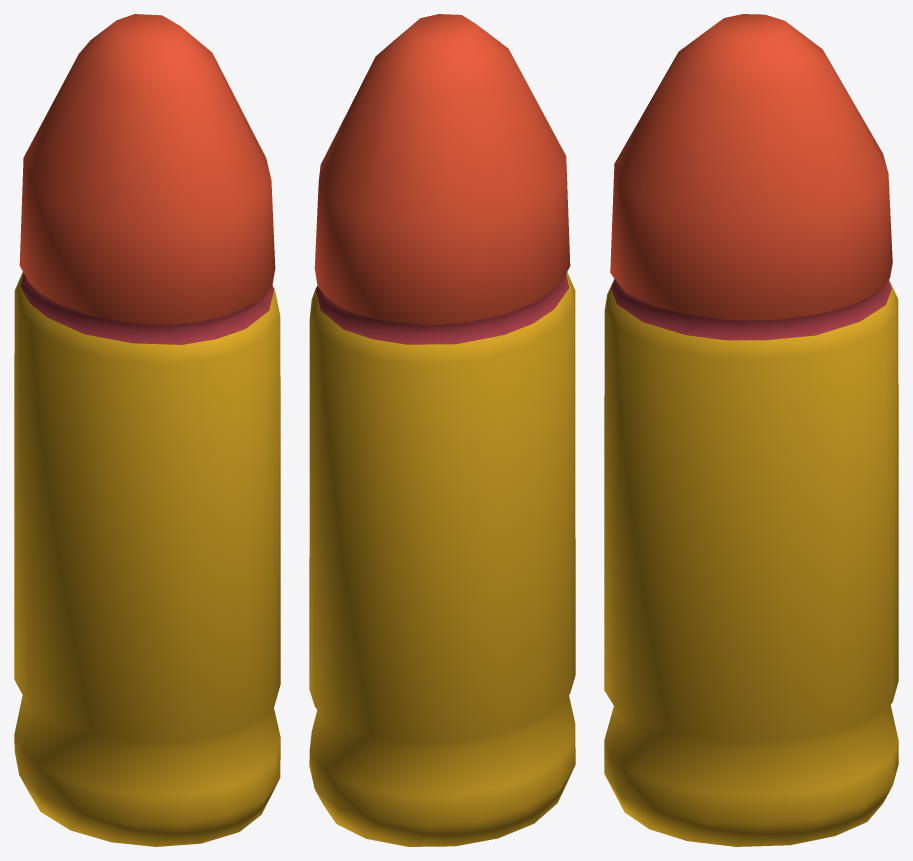
File: bulletRevolver.fbx
3 renders of one model, left to right at view 1: azimuth 30°, elevation 25°; view 2: azimuth 150°, elevation 25°; view 3: azimuth 270°, elevation 25°, orthographic.
Visible parts, largest first — view 1: Circle; view 2: Circle; view 3: Circle.
Boxes of the visible parts, x1,y1,x2,y2 form: Circle: (14, 14, 280, 846); Circle: (309, 14, 575, 846); Circle: (604, 14, 898, 846).
Bounding box in the file's own units: 124 × 406 × 141.
